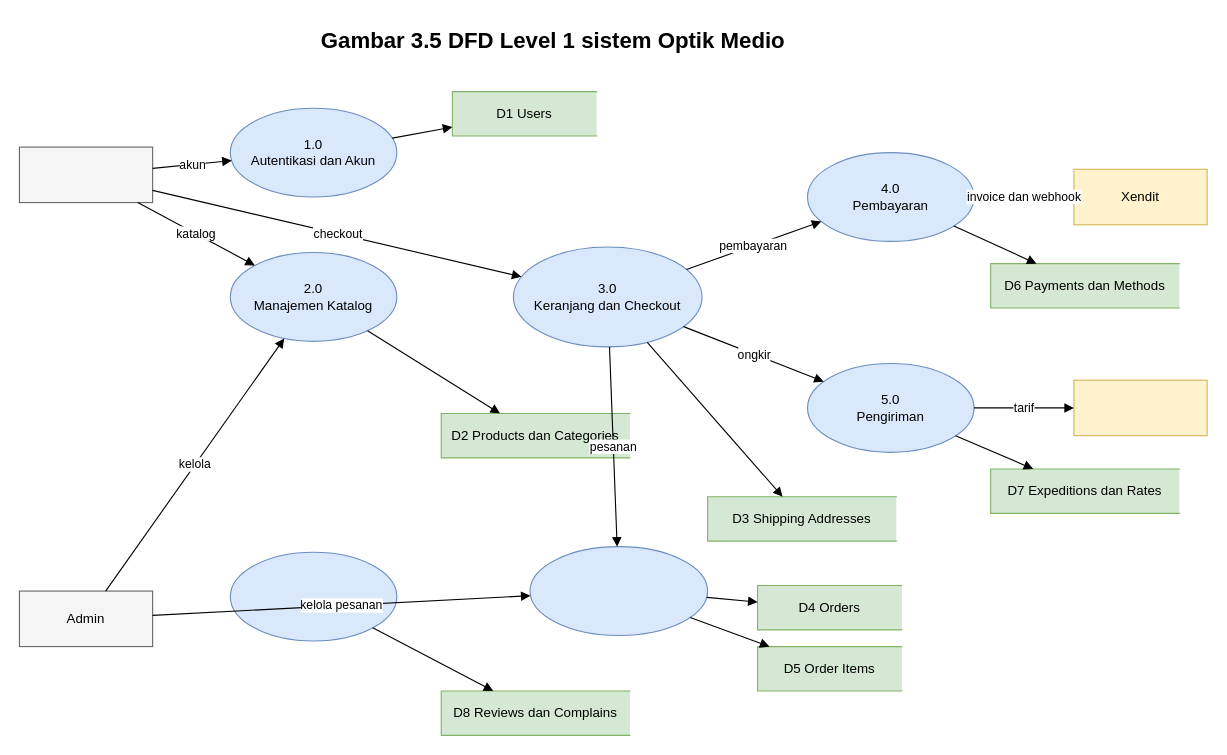
Some shapes in this 1227 by 755 pixel diagram are drawn without their labels. The shapes that lost their labels are listed below. From the top down, each one's box as (x1, y1, x2, y2) in pixels, then its label:
(18, 146, 153, 203): Pelanggan
(1073, 379, 1207, 436): RajaOngkir
(229, 551, 397, 641): 7.0 Ulasan dan Layanan
(529, 546, 708, 635): 6.0 Manajemen Pesanan
